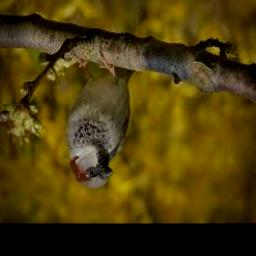Sparrow: (66, 60, 136, 189)
